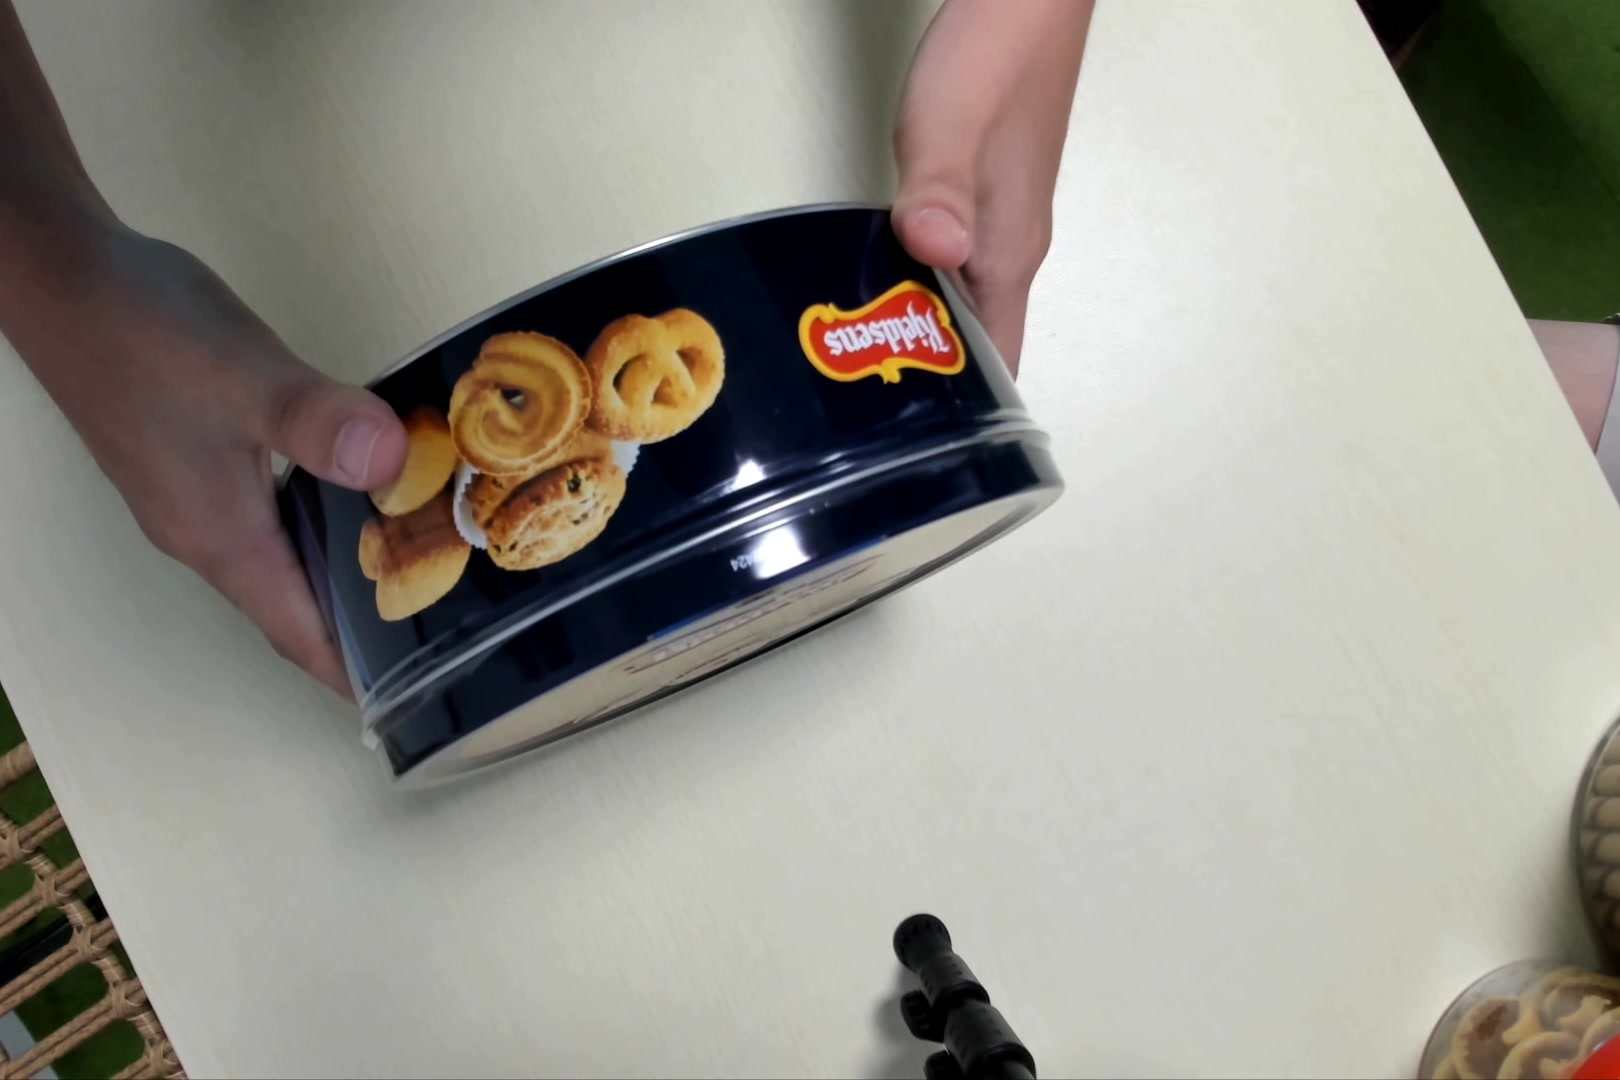BiscuitsCrackersCookies_400-499g_Halal_NonHealthy: (264, 194, 1067, 802)
